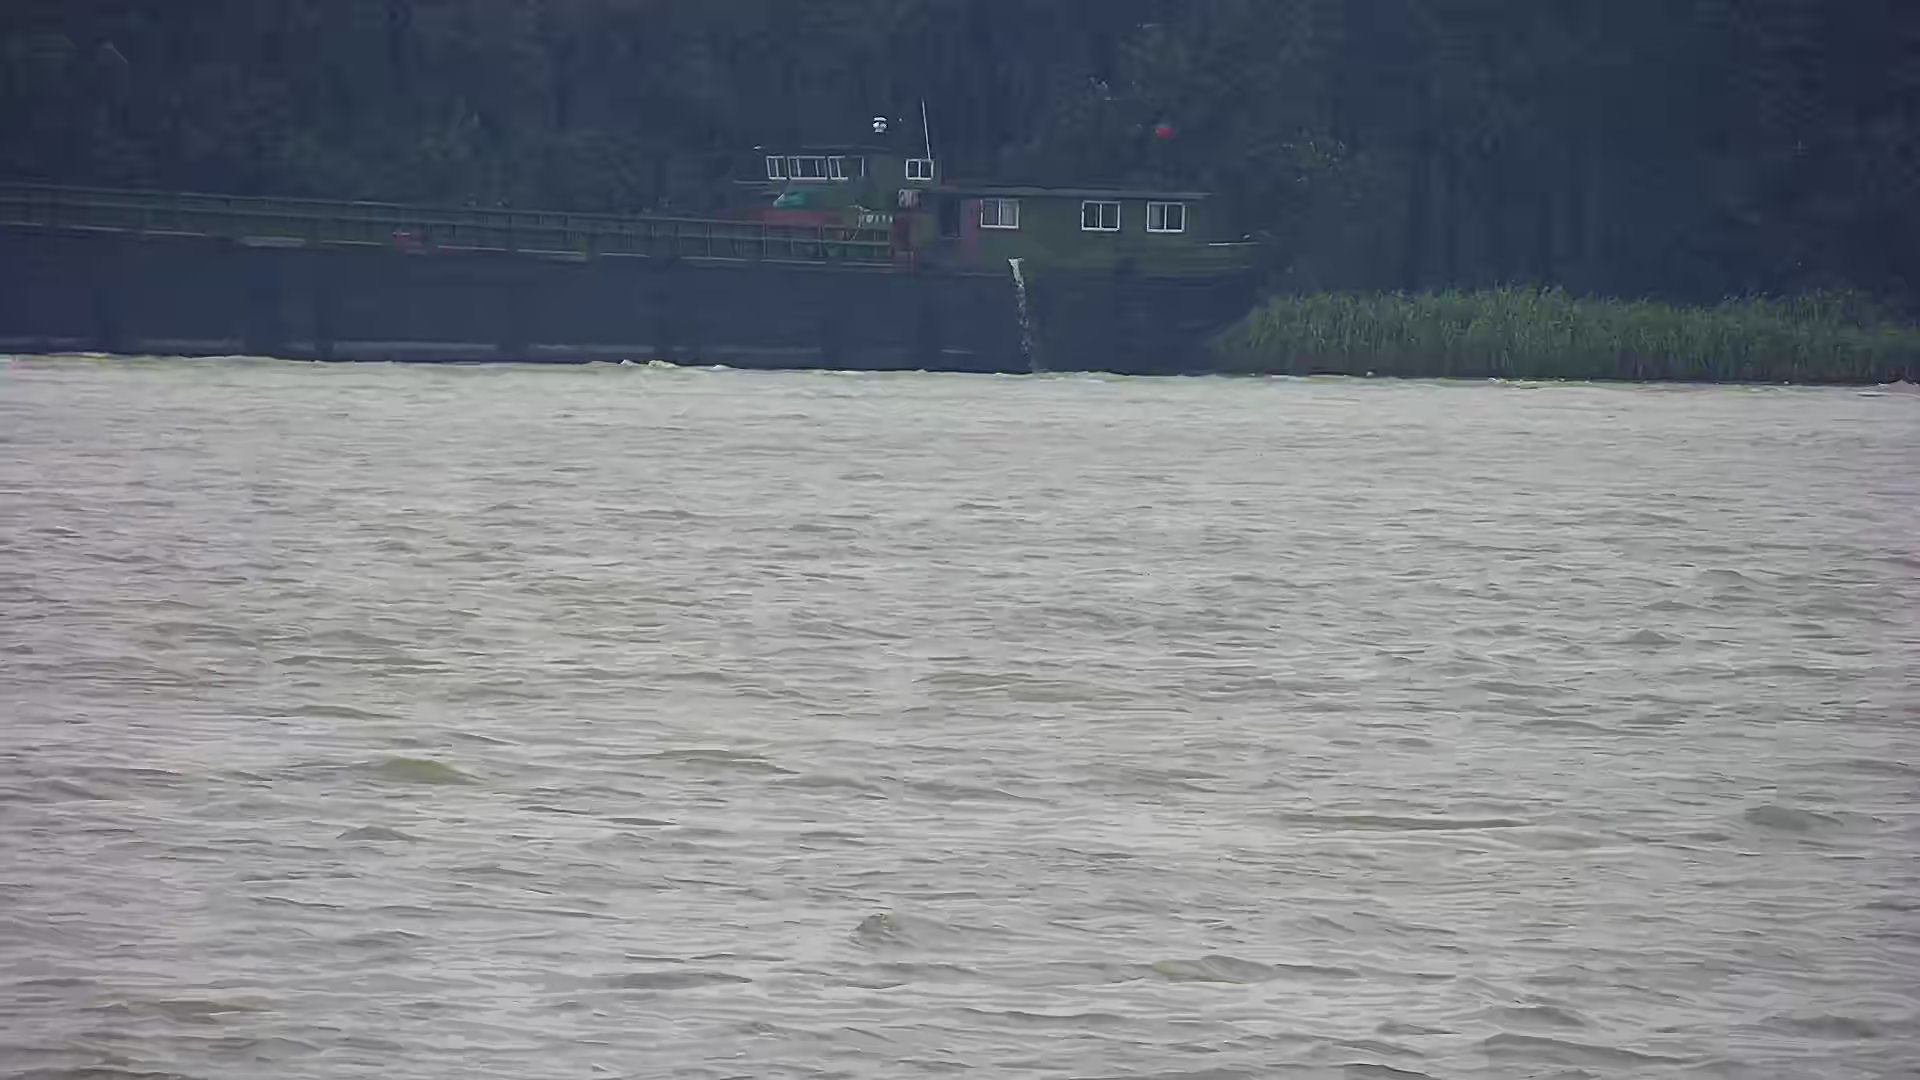ship: (1, 91, 1280, 392)
